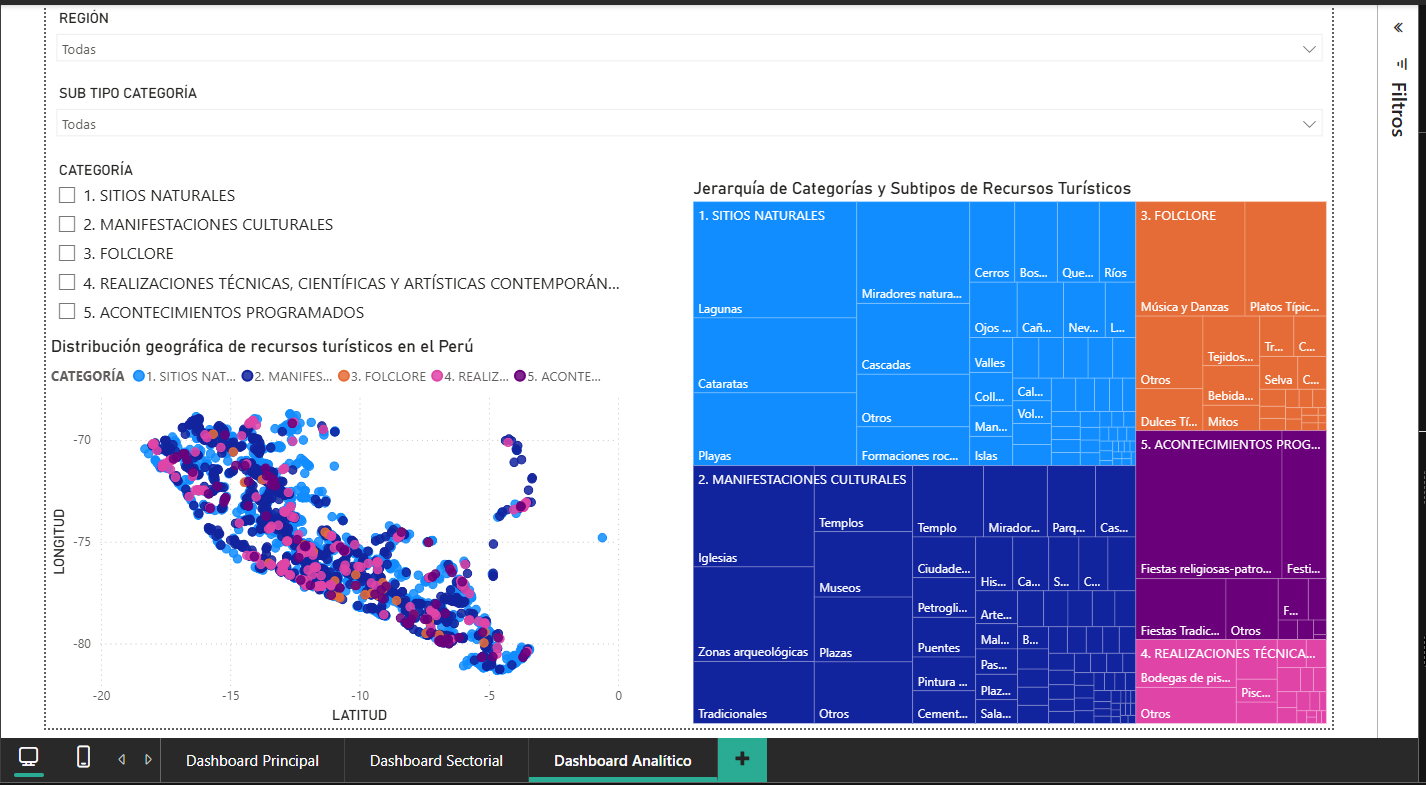

Layout of this report page (visuals, bound fields, positions):
{"tool":"powerbi","page":{"name":"Dashboard Analítico","canvas":[1280,720],"ordinal":2},"visuals":[{"type":"scatterChart","title":"Distribución geográfica de recursos turísticos en el Perú","fields":{"Y":["Inventario_recursos_turisticos.LONGITUD"],"X":["Inventario_recursos_turisticos.LATITUD"],"Series":["Inventario_recursos_turisticos.CATEGORÍA"]},"box":[0,330,578.6,390],"z":0},{"type":"treemap","title":"Jerarquía de Categorías y Subtipos de Recursos Turísticos","fields":{"Group":["Inventario_recursos_turisticos.CATEGORÍA"],"Details":["Inventario_recursos_turisticos.SUB TIPO CATEGORÍA"],"Values":["CountNonNull(Inventario_recursos_turisticos.NOMBRE DEL RECURSO)"]},"box":[640,171.4,640,548.6],"z":1000},{"type":"slicer","fields":{"Values":["Inventario_recursos_turisticos.REGIÓN"]},"box":[0,0,1280,74.3],"z":2000},{"type":"slicer","fields":{"Values":["Inventario_recursos_turisticos.CATEGORÍA"]},"box":[0,150,578.6,180],"z":3000},{"type":"slicer","fields":{"Values":["Inventario_recursos_turisticos.SUB TIPO CATEGORÍA"]},"box":[0,74.3,1280,75.7],"z":4000}]}

Visuals, with their boxes on the page's 1280x720 design canvas (x1, y1, x2, y2). These are canvas units, not pixel positions in the 1426x785 screenshot, which may show the page scaled, cropped or inside an application window:
"Distribución geográfica de recursos turísticos en el Perú" scatterChart: pyautogui.locateOnScreen(0, 330, 579, 720)
"Jerarquía de Categorías y Subtipos de Recursos Turísticos" treemap: pyautogui.locateOnScreen(640, 171, 1280, 720)
slicer - Inventario_recursos_turisticos.REGIÓN: pyautogui.locateOnScreen(0, 0, 1280, 74)
slicer - Inventario_recursos_turisticos.CATEGORÍA: pyautogui.locateOnScreen(0, 150, 579, 330)
slicer - Inventario_recursos_turisticos.SUB TIPO CATEGORÍA: pyautogui.locateOnScreen(0, 74, 1280, 150)
